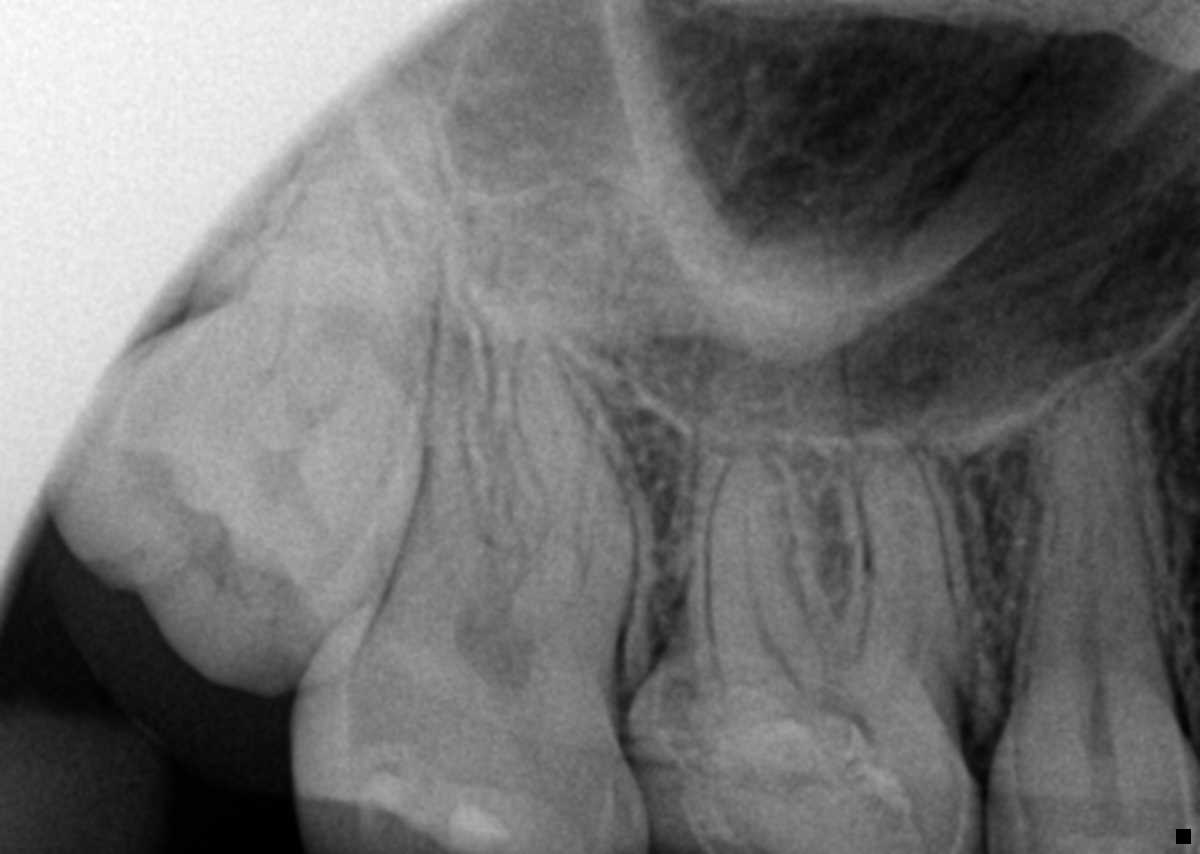Distal Canal: (427, 499, 465, 599)
Distal Root: (704, 448, 831, 698)
Main Canal: (1075, 451, 1105, 689)
Main Root: (224, 59, 451, 429), (1012, 371, 1169, 698)
Mesial Canal: (748, 507, 801, 679), (892, 499, 922, 673), (558, 480, 589, 609)
Mesial Root: (511, 335, 641, 649), (848, 422, 967, 692)
Palatal Root: (679, 202, 883, 648), (412, 184, 605, 608)
